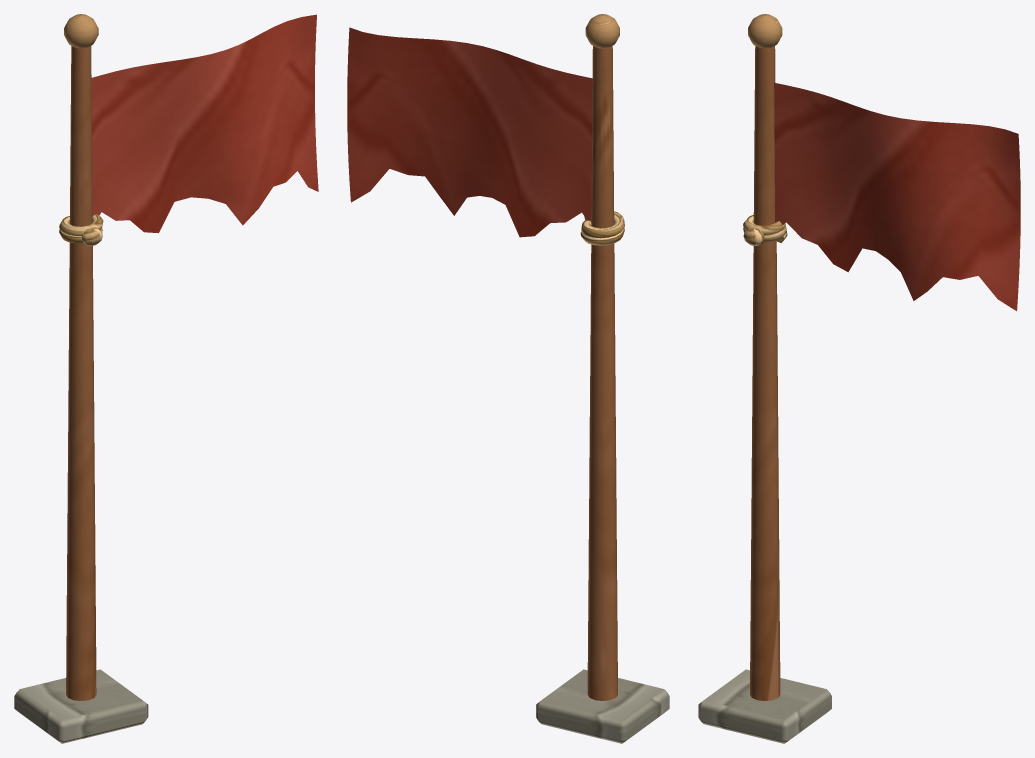
File: SM_Flag_Red.glb
3 views of the same model, side by side, from view 1: azimuth 30°, elevation 25°; view 2: azimuth 150°, elevation 25°; view 3: azimuth 330°, elevation 25° (orthographic).
Visible parts, largest first — view 1: SM_Flag_Red; view 2: SM_Flag_Red; view 3: SM_Flag_Red.
Boxes of the visible parts, x1,y1,x2,y2 form: SM_Flag_Red: (14, 14, 318, 743); SM_Flag_Red: (347, 14, 669, 743); SM_Flag_Red: (698, 14, 1020, 743).
Bounding box in the file's own units: 1.52 × 3.52 × 0.44.
Materials: 1 (1 with a texture image).
